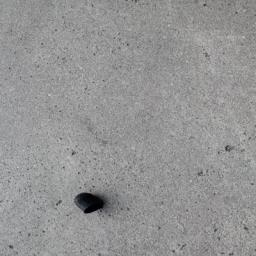FOD: (71, 191, 112, 219)
